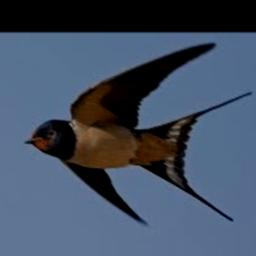Swallow: (25, 42, 252, 225)
